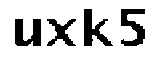5: (118, 5, 151, 49)
k: (78, 6, 115, 48)
u: (12, 16, 44, 49)
x: (44, 17, 76, 49)
